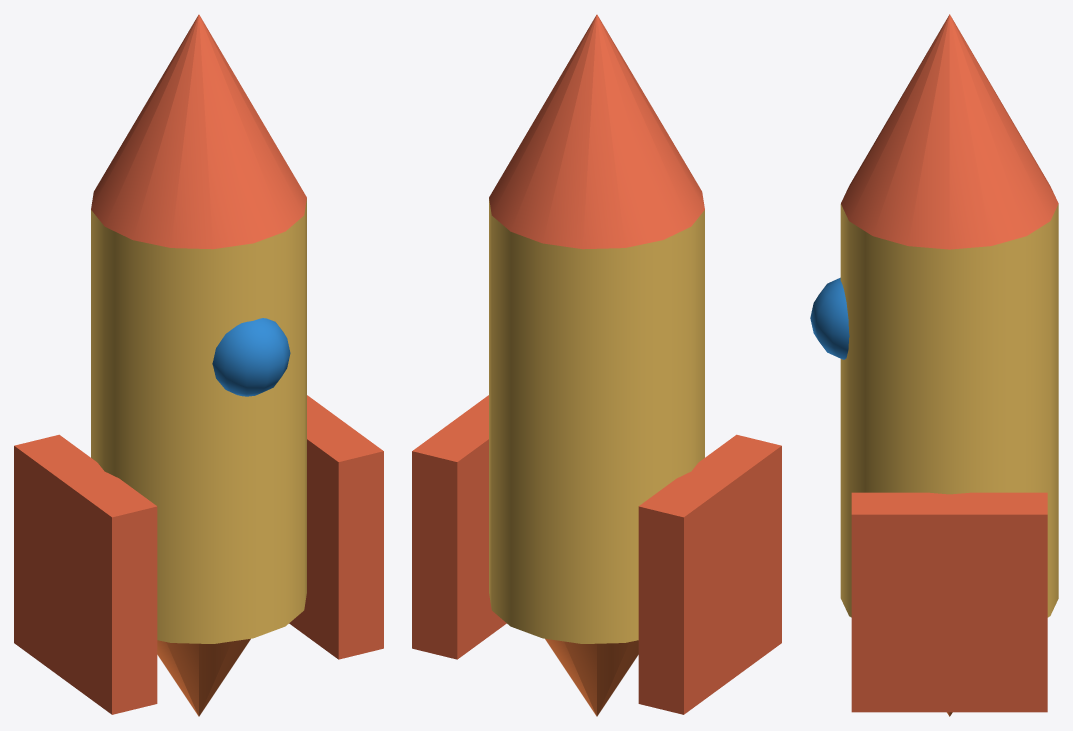
File: cohete.glb
The picture shows the model from 3 angles, left to right: view 1: azimuth 30°, elevation 25°; view 2: azimuth 150°, elevation 25°; view 3: azimuth 270°, elevation 25°; orthographic projection.
Parts seen in each view (by area): view 1: fusaje, aleta (×2), punta, ventana, motor; view 2: fusaje, aleta (×2), punta, motor; view 3: fusaje, aleta, punta, ventana.
Boxes of the visible parts, x1,y1,x2,y2 form: fusaje: (91,199,306,643); aleta (×2): (14,395,383,714); punta: (91,14,306,249); ventana: (212,318,290,396); motor: (157,638,250,716); fusaje: (489,199,704,643); aleta (×2): (412,395,781,714); punta: (489,14,704,249); motor: (545,638,638,716); fusaje: (840,204,1058,617); aleta: (851,492,1047,712); punta: (841,14,1058,249); ventana: (810,277,849,359).
Bounding box in the file's own units: 0.72 × 1.78 × 0.57.
